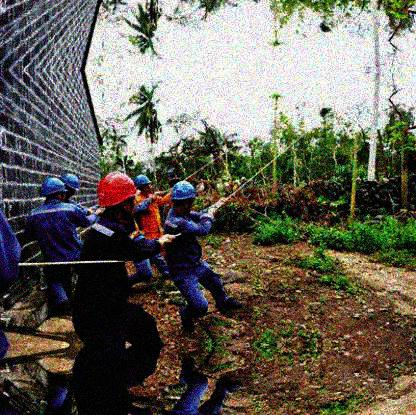helmet: (97, 171, 141, 222), (170, 180, 197, 216), (41, 176, 65, 205), (135, 174, 153, 195)
